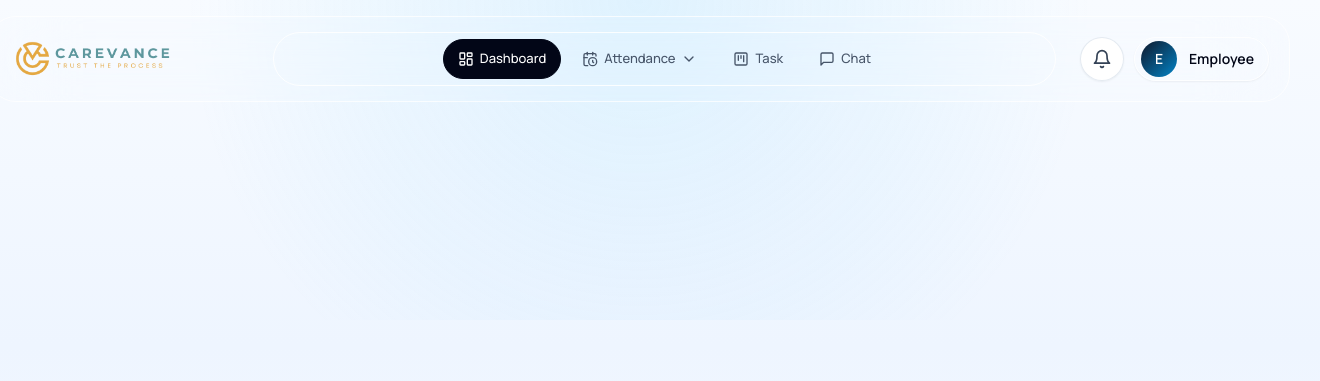
Test: Layout navigation › hides admin-only navigation items for employees
The width and height of the screenshot is (1320, 381).
Expected: the text "Attendance" is shown, [604,49,676,69]
Expected: the text "Settings" is not shown
Click the button "E Employee": (1202, 59) [1134,37,1269,81]
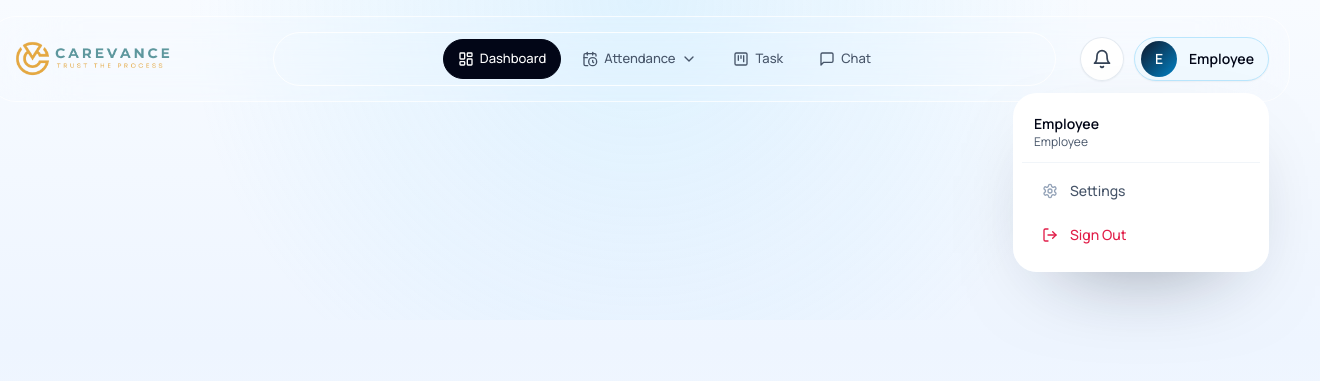
Now the link "Settings" is shown, box [1042,181,1126,200]
